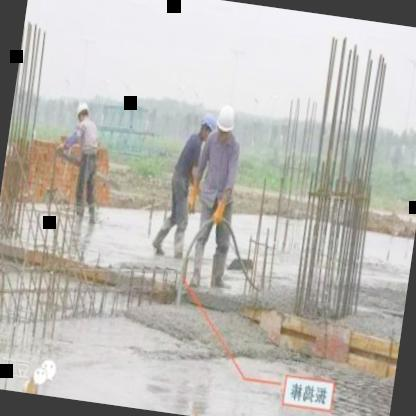helmet: (214, 101, 238, 140), (197, 107, 217, 144), (72, 98, 90, 127)
